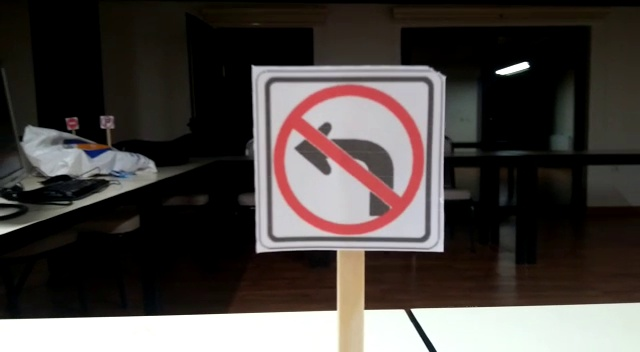sola_donulmez: (253, 80, 427, 252)
